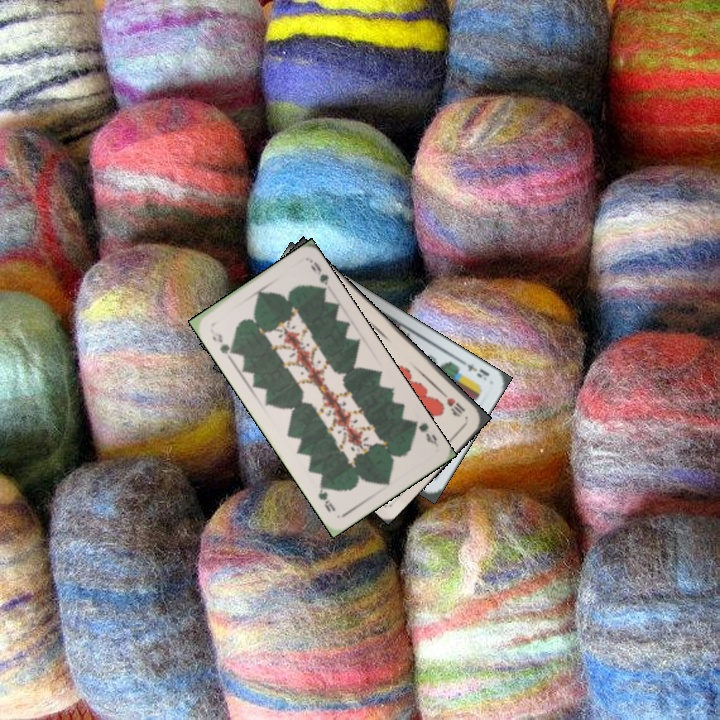EK: (456, 355, 493, 383)
G9: (408, 416, 441, 449), (208, 328, 237, 361)
H10: (437, 388, 468, 419)
